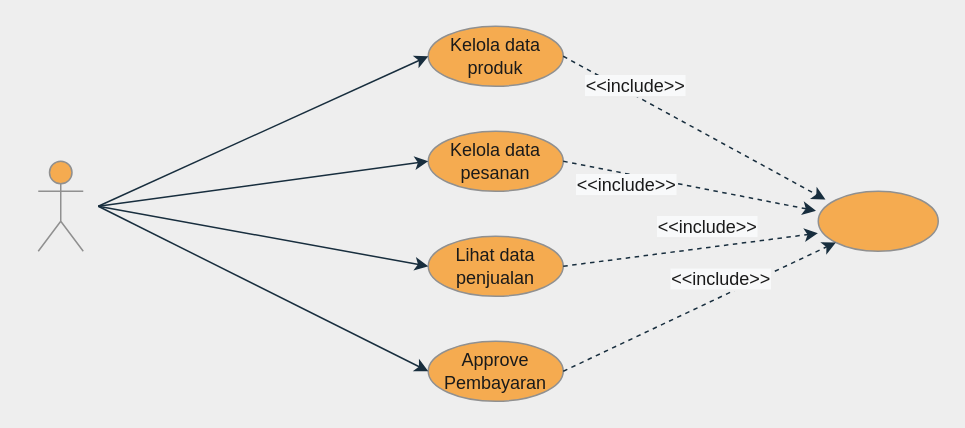
This 965x428 diagram has some shape labels left out. Here are the shapes that lost their labels. From the top down, the centre of each, then its label:
pixel 60 205: Pegawai
pixel 877 220: login
